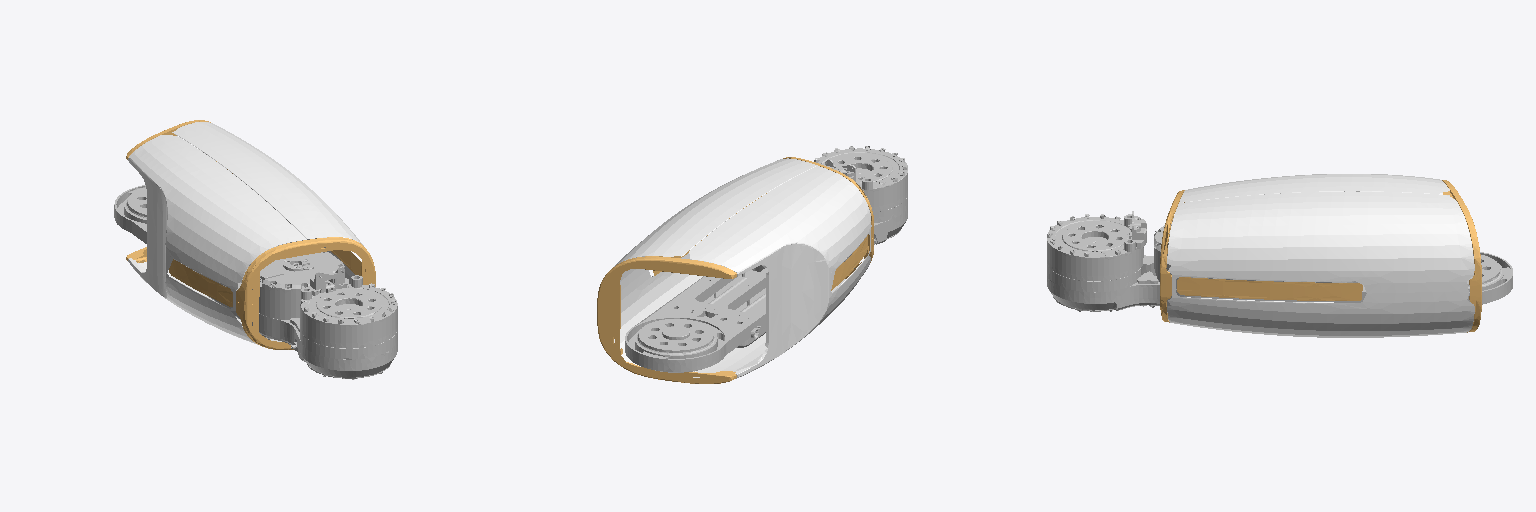
Rendered from sim_ecub_r_lower_leg.obj.
The picture shows the model from 3 angles: view 1: azimuth 30°, elevation 25°; view 2: azimuth 150°, elevation 25°; view 3: azimuth 270°, elevation 25°; orthographic projection.
Size of the model in its own units: 153 by 126 by 408.